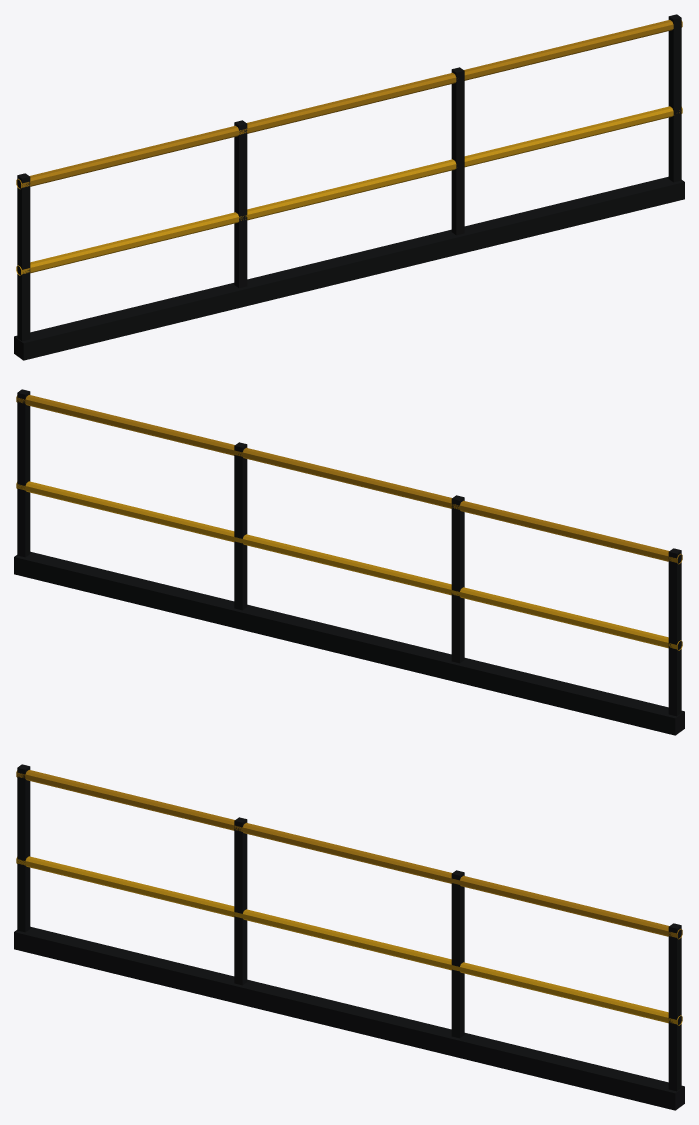
File: kit_railing.glb
3 views of the same model, one above another, from view 1: azimuth 30°, elevation 25°; view 2: azimuth 150°, elevation 25°; view 3: azimuth 330°, elevation 25° (orthographic).
Visible parts, largest first — view 1: Mesh; view 2: Mesh; view 3: Mesh.
Part boxes in pixels (left/top/right/bottom): Mesh: left=14, top=14, right=684, bottom=360; Mesh: left=14, top=389, right=684, bottom=735; Mesh: left=14, top=764, right=684, bottom=1110.
Size of the model in its own units: 4 by 1.04 by 0.1.
